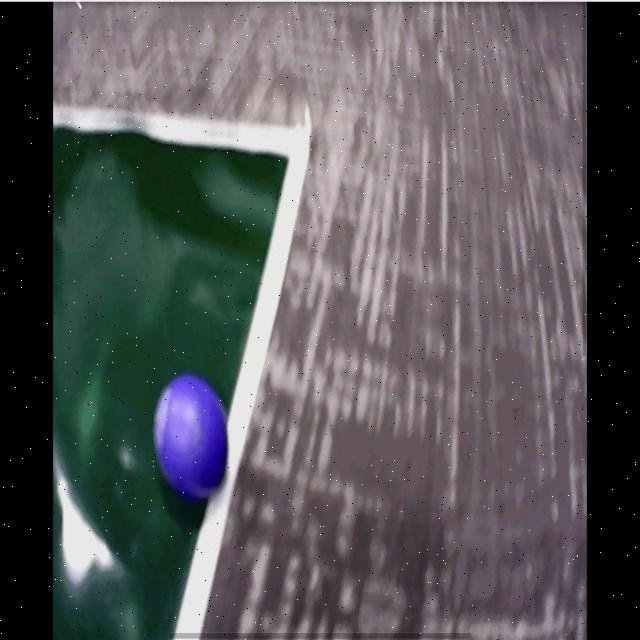ball: (155, 378, 232, 500)
